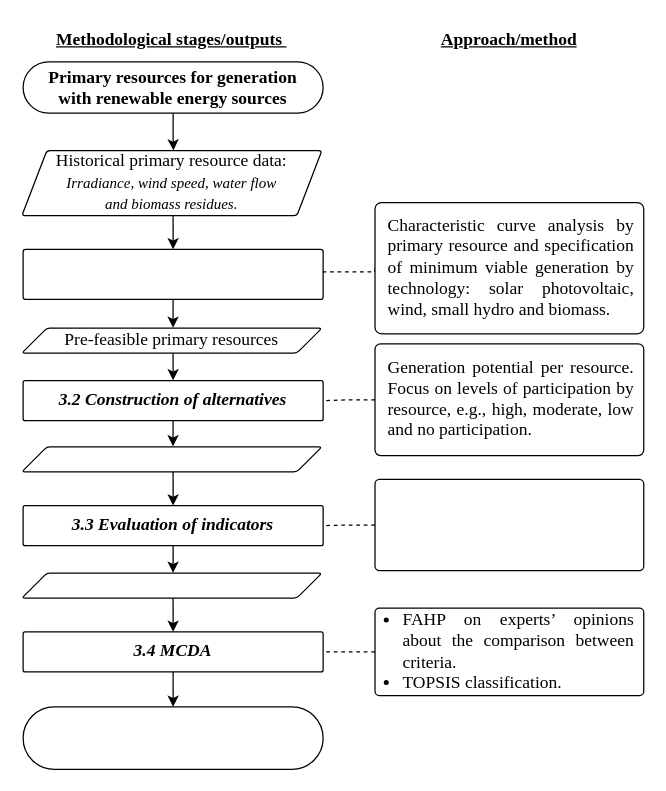
This 666x791 diagram has some shape labels left out. Each missing label, with the centre of its shape:
3.1 Theoretical pre-feasibility by resource: the point at 172,273
Alternatives evaluated: the point at 171,585
Calculation of indicators per alternative. Evaluation of alternatives.: the point at 509,524
Ranking of alternatives for primary renewable generation resources: the point at 172,737
Resource alternatives: the point at 171,459
